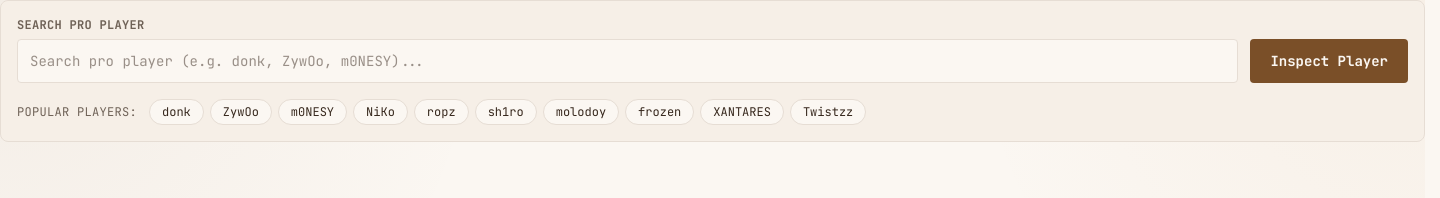
Test: Cs2RadarPlayerSearch Component › shows inline ghost-text suggestion when typing prefix
Type "zy" into the dropdown. click: [628, 61]
box: top-left (17, 39), bottom-right (1238, 83)
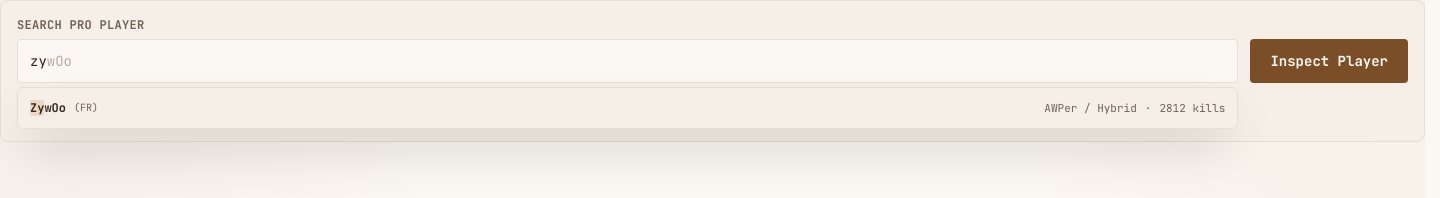
Expected: the element with test id "inline-player-suggestion" reads "Zy wOo", top-left (30, 52), bottom-right (72, 70)
